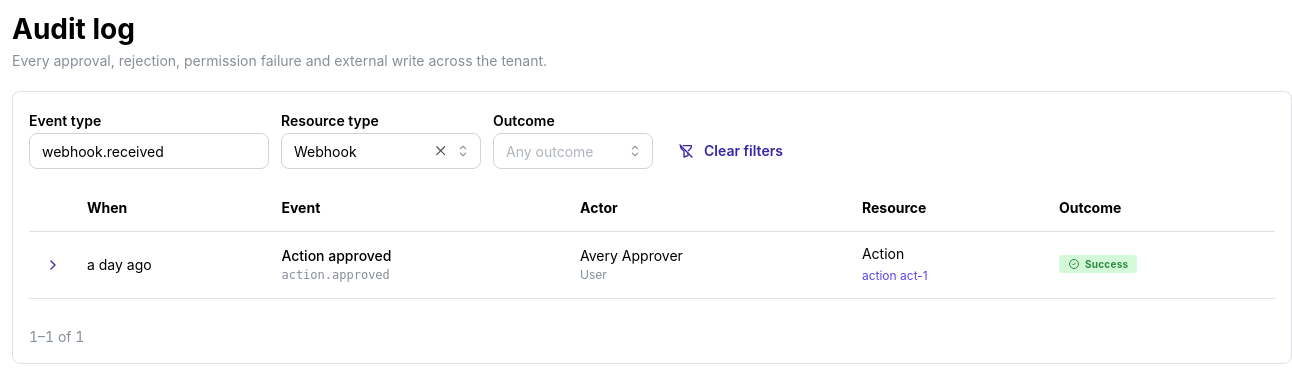
Scenario: <AuditLogPage> filters and pagination › keeps an unknown resource type from the URL selectable and ignores an invalid outcome
expect the table named "Audit events" is shown: met, box [29, 185, 1275, 299]
expect the field labelled "Event type" holds "webhook.received": met, box [29, 133, 269, 169]
Click the dropdown labelled "Resource type".
click(381, 151)  # box [281, 133, 481, 169]
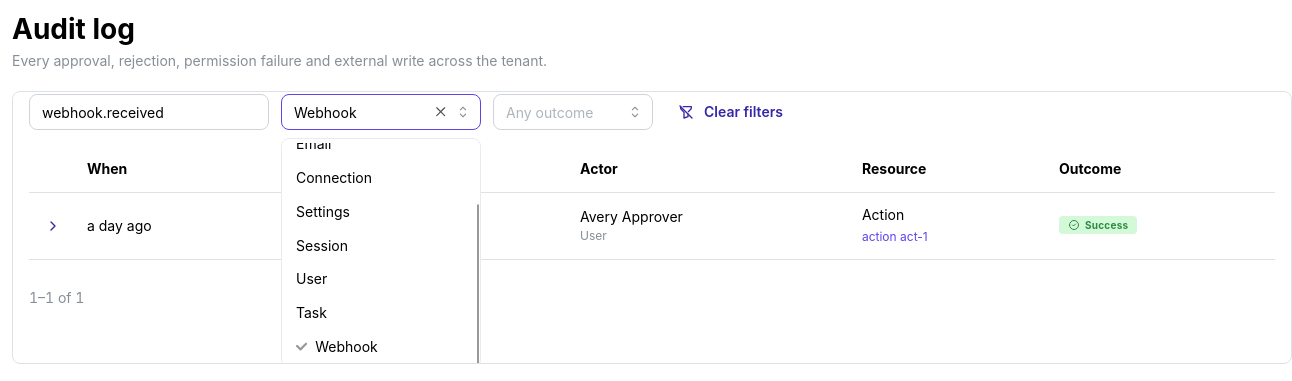
expect the option "Webhook" is shown: met, box [296, 338, 378, 355]
